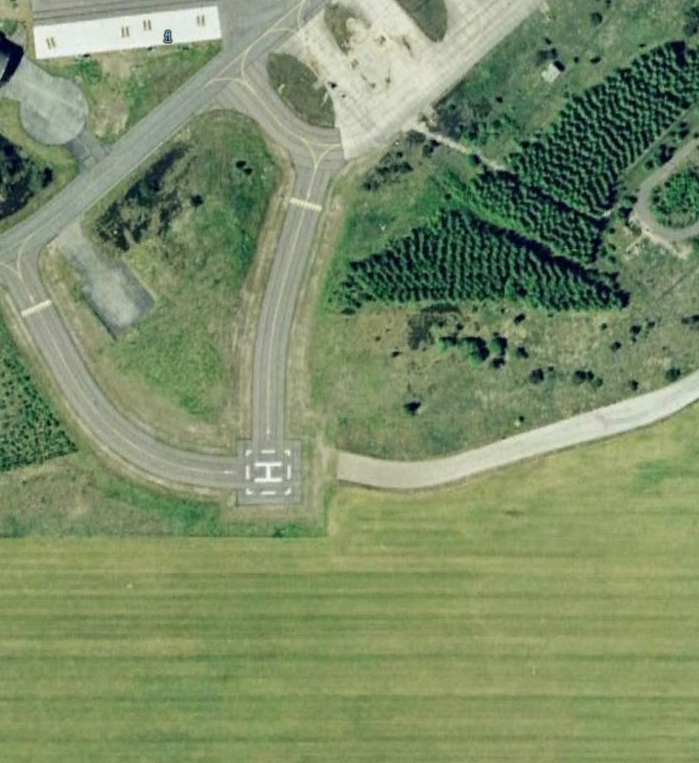heliport: (250, 456, 283, 484)
